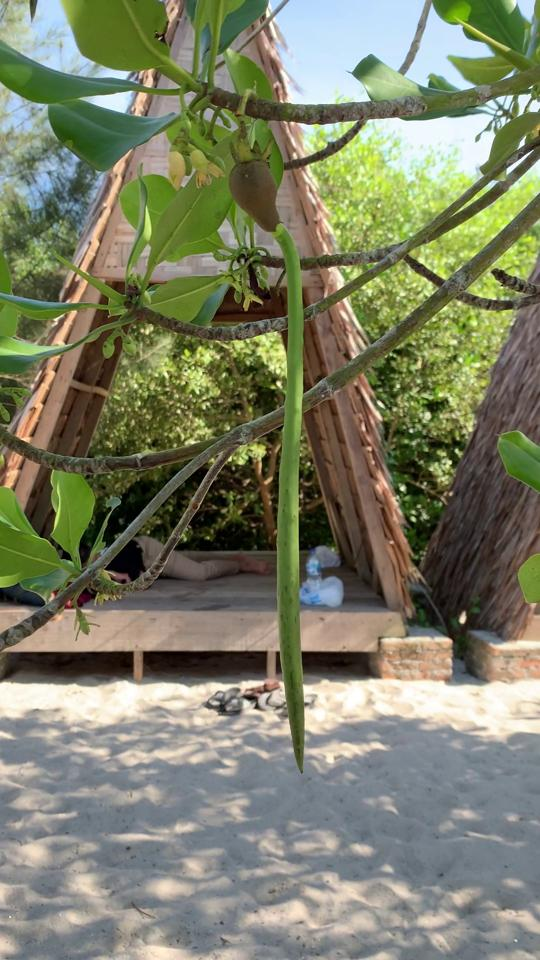setengah matang: (220, 132, 330, 789)
